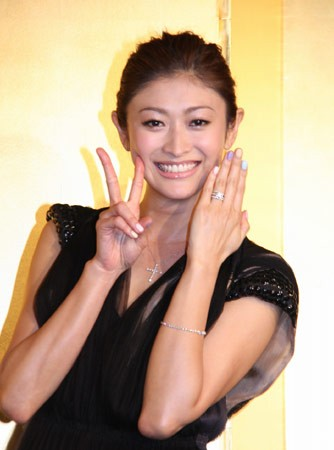face: (110, 65, 246, 199)
hand: (186, 147, 250, 266), (95, 146, 151, 271)
